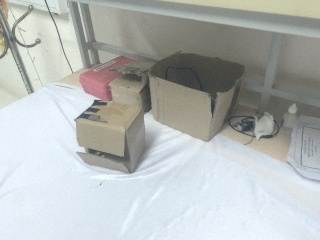box: (149, 52, 244, 140), (76, 76, 146, 173), (76, 55, 134, 101), (107, 63, 153, 111)
